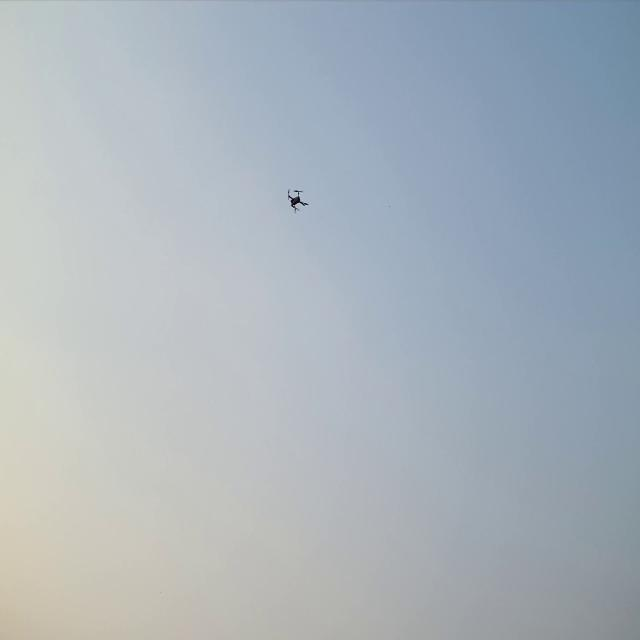UAV: (284, 185, 312, 215)
